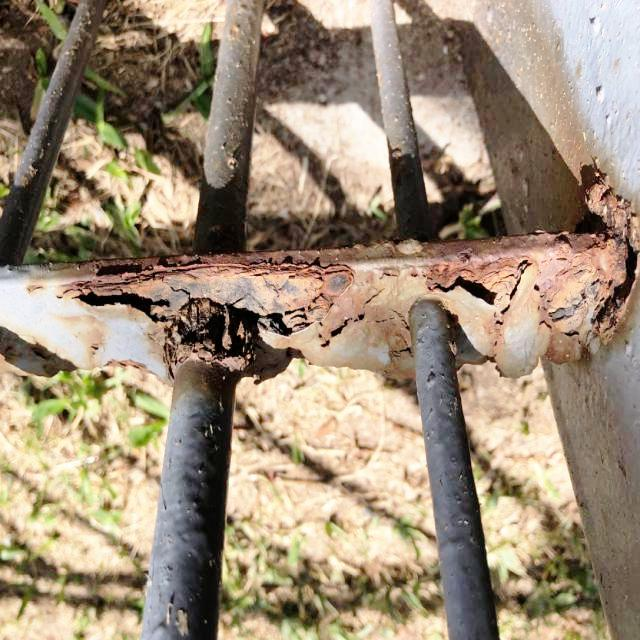Corrosion: (21, 163, 640, 387)
